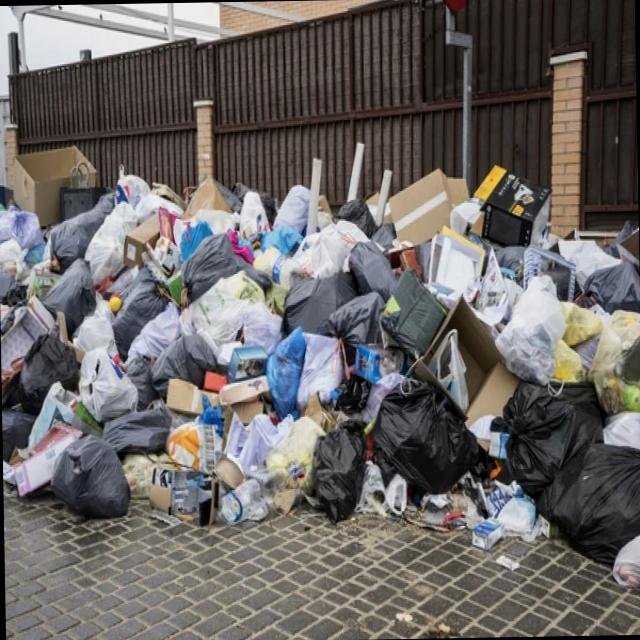garbage: (5, 158, 628, 588)
